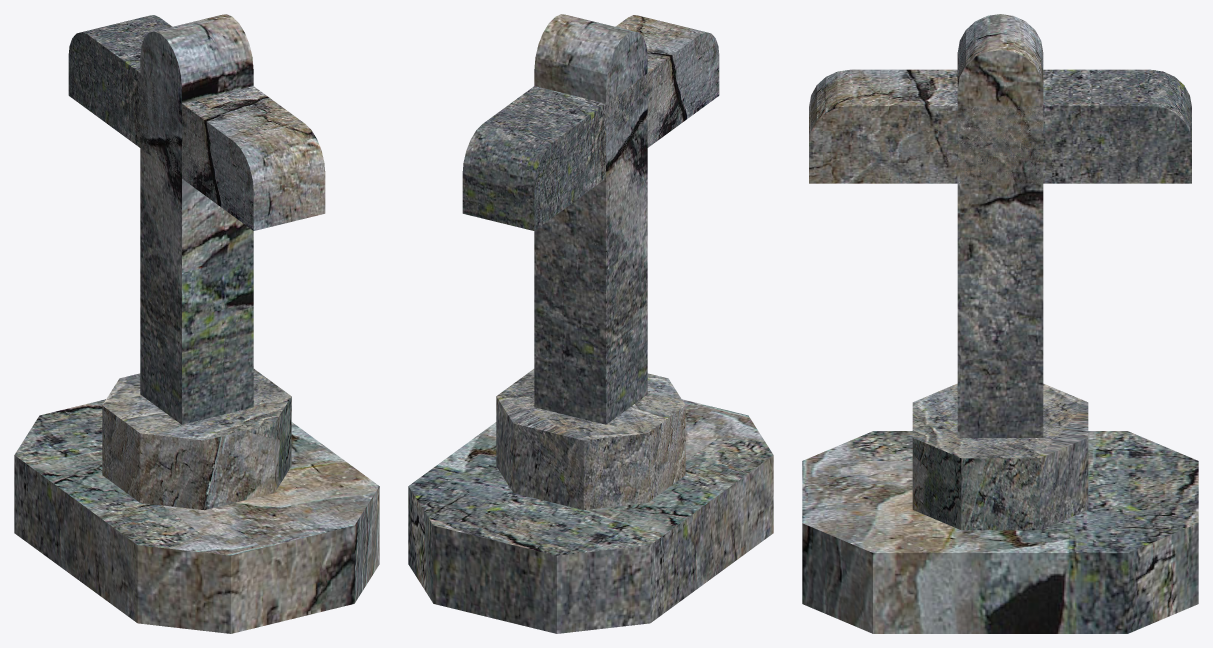
Rendered from tumba.FBX.
The picture shows the model from 3 angles, left to right: view 1: azimuth 30°, elevation 25°; view 2: azimuth 150°, elevation 25°; view 3: azimuth 270°, elevation 25°; orthographic projection. The views are drawn at different scales.
Visible parts, largest first — view 1: Part2, Gravestone1, Gravestone1.001, Part; view 2: Part2, Gravestone1, Gravestone1.001, Part; view 3: Part2, Gravestone1.001, Gravestone1, Part.
Part boxes in pixels (bbox=[...]): Part2: bbox=[14, 399, 379, 633]; Gravestone1: bbox=[140, 14, 253, 424]; Gravestone1.001: bbox=[68, 15, 325, 230]; Part: bbox=[102, 369, 291, 510]; Part2: bbox=[408, 399, 773, 633]; Gravestone1: bbox=[534, 14, 647, 424]; Gravestone1.001: bbox=[462, 15, 719, 230]; Part: bbox=[496, 369, 685, 510]; Part2: bbox=[802, 431, 1198, 633]; Gravestone1.001: bbox=[809, 69, 1191, 183]; Gravestone1: bbox=[957, 14, 1043, 437]; Part: bbox=[912, 383, 1088, 530].
Bounding box in the file's own units: 675 × 1395 × 926.
Materials: 1 (1 with a texture image).
